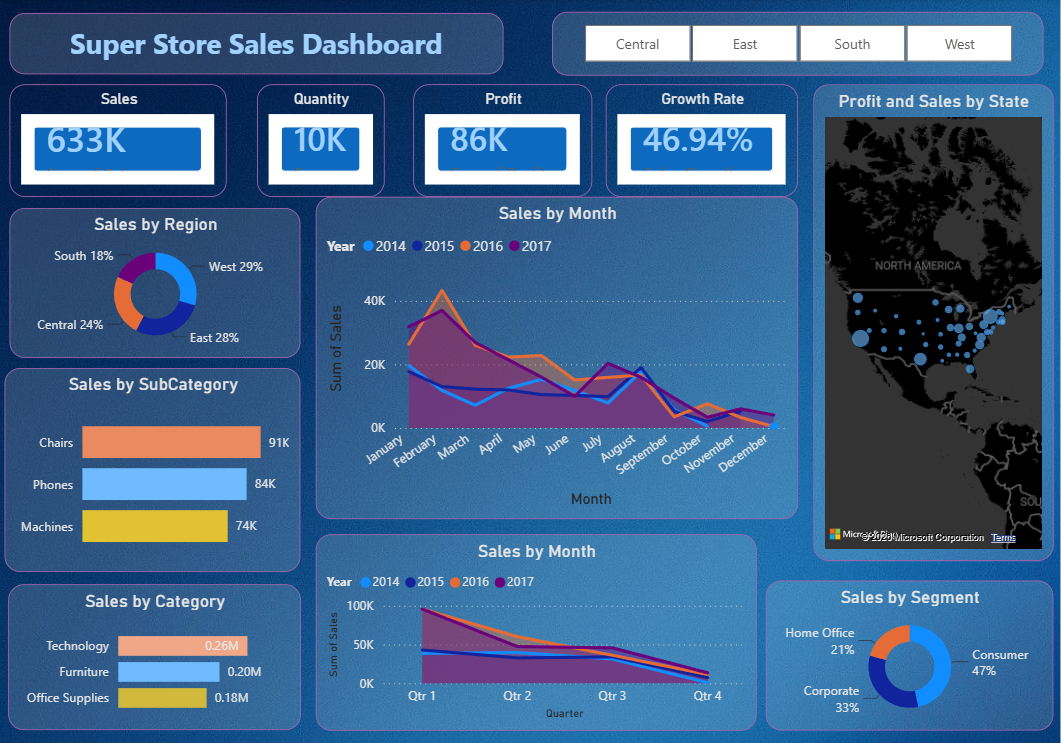

The dashboard page shown, as its layout file describes it:
{"tool":"powerbi","page":{"name":"Page 1","canvas":[1280,720],"ordinal":0},"visuals":[{"type":"clusteredBarChart","title":"Sales by Category","fields":{"Category":["Sample - Superstore.Category"],"Y":["Sum(Sample - Superstore.Sales)"]},"box":[136.3,565.8,282.3,141.2],"z":0},{"type":"map","title":" Profit and Sales by State","fields":{"Category":["Sample - Superstore.State"],"Size":["Sum(Sample - Superstore.Sales)"]},"box":[913.3,83.2,231.6,459.7],"z":1000},{"type":"donutChart","title":"Sales by Region","fields":{"Category":["Sample - Superstore.Region"],"Y":["Sum(Sample - Superstore.Sales)"]},"box":[137.5,202.7,281.1,144.8],"z":2000},{"type":"slicer","fields":{"Values":["Sample - Superstore.Region"]},"box":[661.1,13.3,474.1,61.5],"z":3000},{"type":"textbox","box":[137.5,14.5,476.5,59.1],"z":4000},{"type":"cardVisual","title":"Sales","fields":{"Data":["Sum(Sample - Superstore.Sales)"]},"box":[137.5,83.2,209.9,108.6],"z":5000},{"type":"cardVisual","title":"Quantity","fields":{"Data":["Sum(Sample - Superstore.Quantity)"]},"box":[376.4,83.2,123.1,108.6],"z":6000},{"type":"cardVisual","title":"Profit","fields":{"Data":["Sum(Sample - Superstore.Profit)"]},"box":[527.2,83.2,172.5,108.6],"z":7000},{"type":"clusteredBarChart","title":"Sales by SubCategory","fields":{"Category":["Sample - Superstore.Sub-Category"],"Y":["Sum(Sample - Superstore.Sales)"]},"box":[132.7,357.1,285.9,196.6],"z":8000},{"type":"cardVisual","title":"Growth Rate","fields":{"Data":["Calendar.Sales Growth Rate"]},"box":[713,83.2,185.8,108.6],"z":9000},{"type":"actionButton","box":[0,0,100,40],"z":10000},{"type":"areaChart","title":" Sales by Month","fields":{"Category":["Calendar.Date.Variation.Date Hierarchy.Month","Calendar.Date.Variation.Date Hierarchy.Day"],"Y":["Sum(Sample - Superstore.Sales)"],"Series":["Calendar.Date.Variation.Date Hierarchy.Year"]},"box":[433.1,191.8,465.7,311.3],"z":11000},{"type":"areaChart","title":" Sales by Month","fields":{"Y":["Sum(Sample - Superstore.Sales)"],"Series":["Calendar.Date.Variation.Date Hierarchy.Year"],"Category":["Calendar.Date.Variation.Date Hierarchy.Quarter"]},"box":[433.1,517.6,425.9,189.4],"z":12000},{"type":"donutChart","title":"Sales by Segment","fields":{"Category":["Sample - Superstore.Segment","Sample - Superstore.Region"],"Y":["Sum(Sample - Superstore.Sales)"]},"box":[867.4,562.2,277.5,144.8],"z":13000}]}

Visuals, with their boxes on the page's 1280x720 design canvas (x1, y1, x2, y2). These are canvas units, not pixel positions in the 1061x743 screenshot, which may show the page scaled, cropped or inside an application window:
"Sales by Category" clusteredBarChart: [x1=136, y1=566, x2=419, y2=707]
" Profit and Sales by State" map: [x1=913, y1=83, x2=1145, y2=543]
"Sales by Region" donutChart: [x1=138, y1=203, x2=419, y2=348]
slicer - Sample - Superstore.Region: [x1=661, y1=13, x2=1135, y2=75]
textbox: [x1=138, y1=14, x2=614, y2=74]
"Sales" cardVisual: [x1=138, y1=83, x2=347, y2=192]
"Quantity" cardVisual: [x1=376, y1=83, x2=500, y2=192]
"Profit" cardVisual: [x1=527, y1=83, x2=700, y2=192]
"Sales by SubCategory" clusteredBarChart: [x1=133, y1=357, x2=419, y2=554]
"Growth Rate" cardVisual: [x1=713, y1=83, x2=899, y2=192]
actionButton: [x1=0, y1=0, x2=100, y2=40]
" Sales by Month" areaChart: [x1=433, y1=192, x2=899, y2=503]
" Sales by Month" areaChart: [x1=433, y1=518, x2=859, y2=707]
"Sales by Segment" donutChart: [x1=867, y1=562, x2=1145, y2=707]
